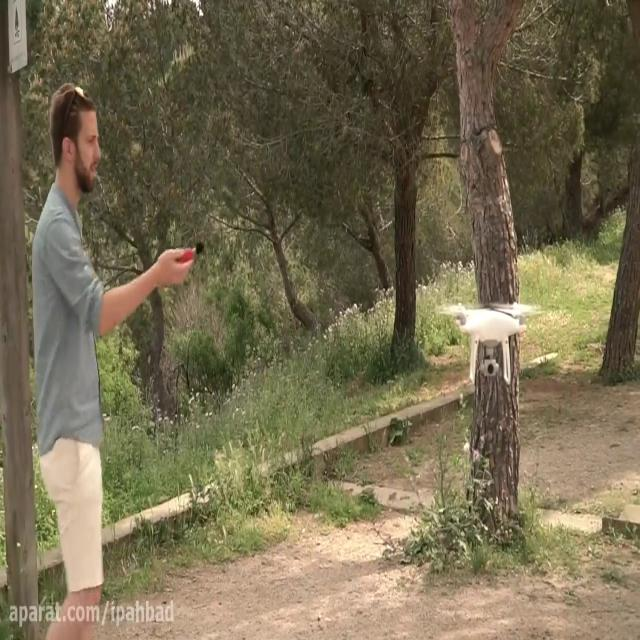drone: (442, 295, 540, 383)
